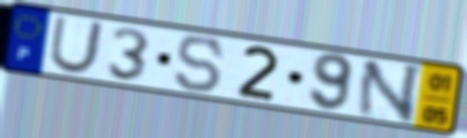2: (236, 45, 281, 104)
3: (105, 26, 153, 83)
9: (306, 52, 355, 116)
N: (353, 59, 427, 126)
S: (173, 34, 227, 95)
U: (46, 15, 107, 77)
